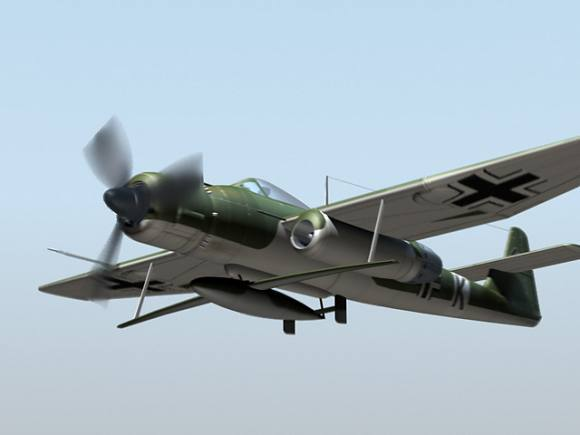airplane: (30, 111, 580, 341)
